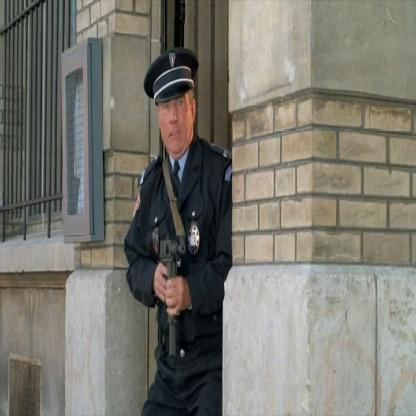gun: (146, 210, 192, 363)
